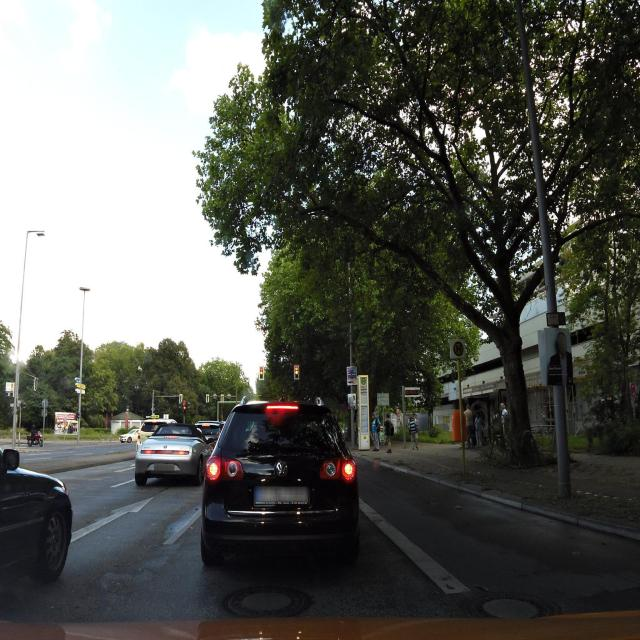Good: (219, 577, 313, 621), (461, 586, 564, 624)
